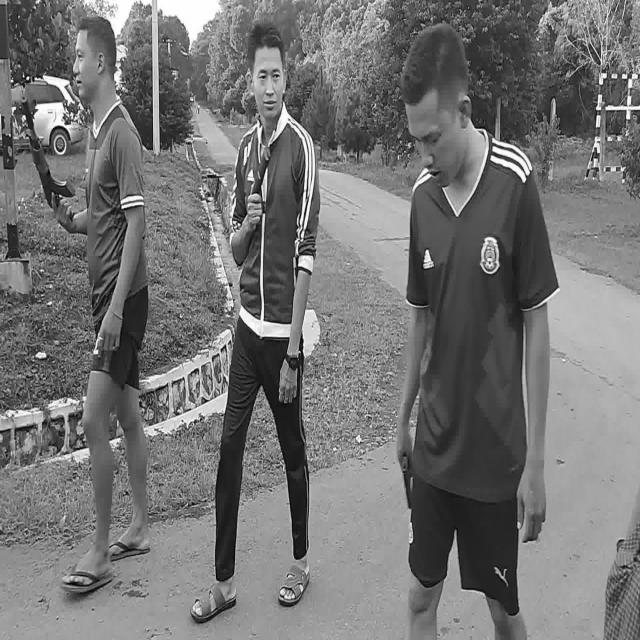gun: (20, 96, 76, 220), (402, 457, 411, 508)
